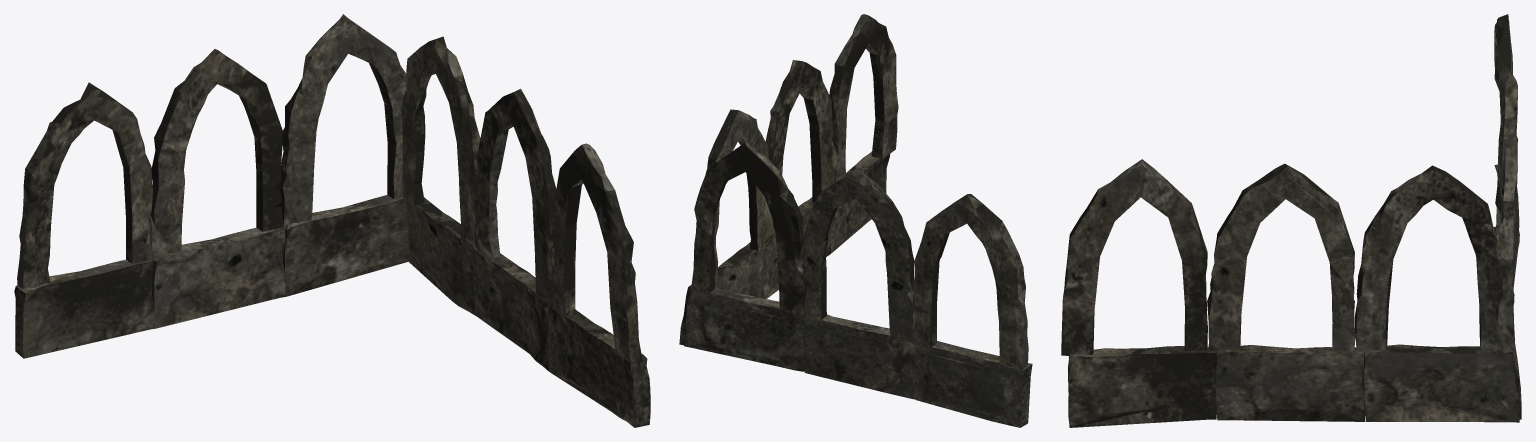
The picture shows the model from 3 angles, left to right: view 1: azimuth 30°, elevation 25°; view 2: azimuth 150°, elevation 25°; view 3: azimuth 270°, elevation 25°; orthographic projection. The views are drawn at different scales.
Visible parts, largest first — view 1: ruinchurch; view 2: ruinchurch; view 3: ruinchurch.
Part boxes in pixels (x1,y1,x2,y2): ruinchurch: (14,14,650,427); ruinchurch: (679,14,1032,427); ruinchurch: (1061,14,1521,427).
Size of the model in its own units: 580 by 356 by 581.
Materials: 1 (1 with a texture image).
